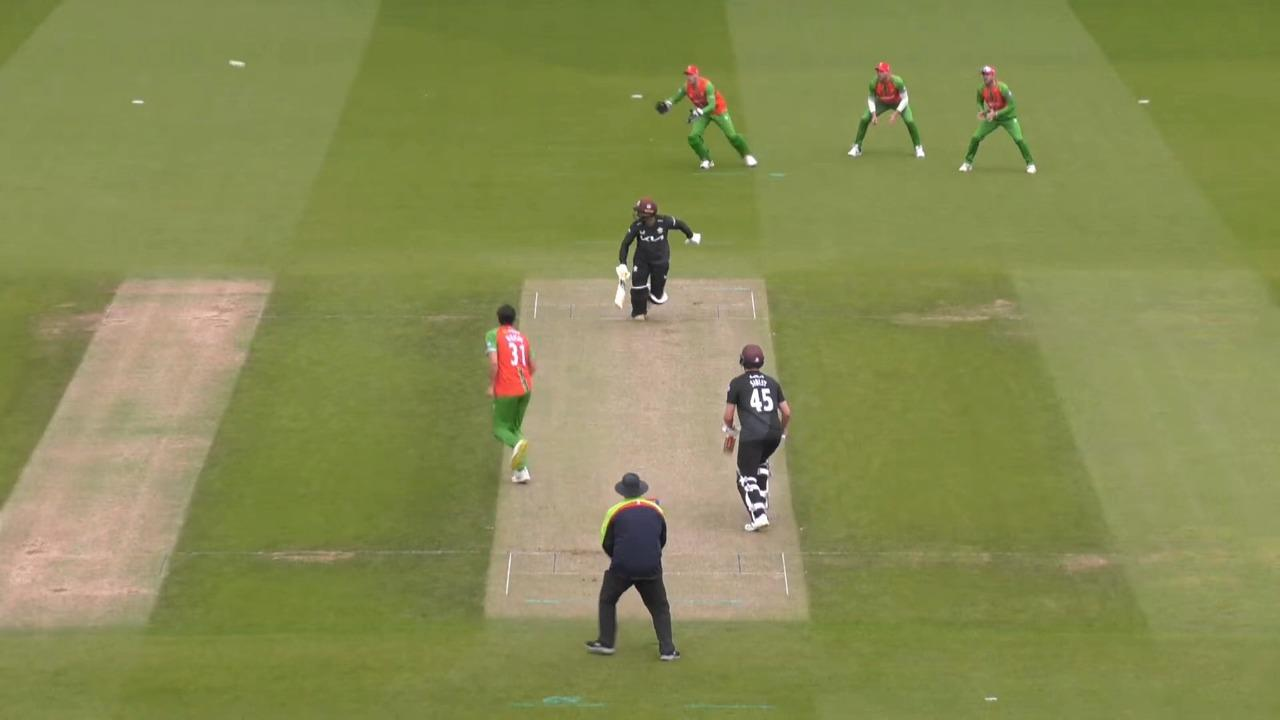sports ball: (227, 58, 245, 68)
